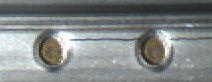joints: (133, 29, 172, 69), (32, 31, 68, 70)
